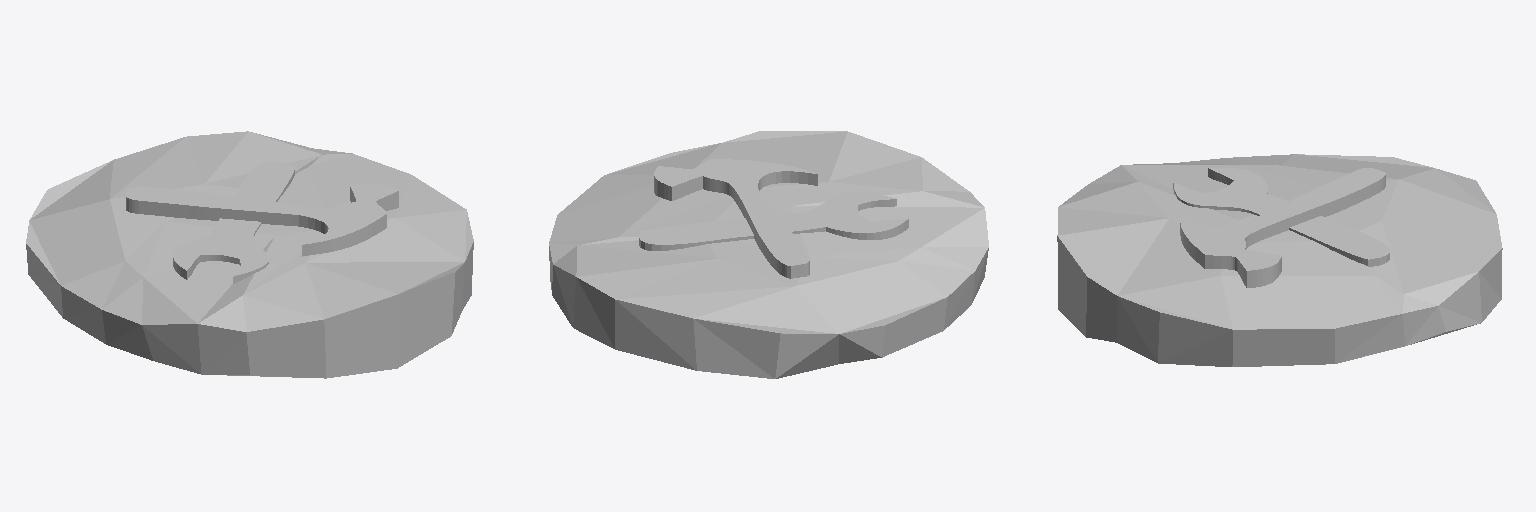
File: kovanec1.obj
3 renders of one model, left to right at view 1: azimuth 30°, elevation 25°; view 2: azimuth 150°, elevation 25°; view 3: azimuth 270°, elevation 25°, orthographic.
Parts seen in each view (by area): view 1: Curve.002_CUCurve.007; view 2: Curve.002_CUCurve.007; view 3: Curve.002_CUCurve.007.
Part boxes in pixels (x1,y1,x2,y2): Curve.002_CUCurve.007: (26, 131, 473, 378); Curve.002_CUCurve.007: (549, 131, 988, 378); Curve.002_CUCurve.007: (1057, 154, 1502, 366).
Bounding box in the file's own units: 1.01 × 0.2411 × 1.04.